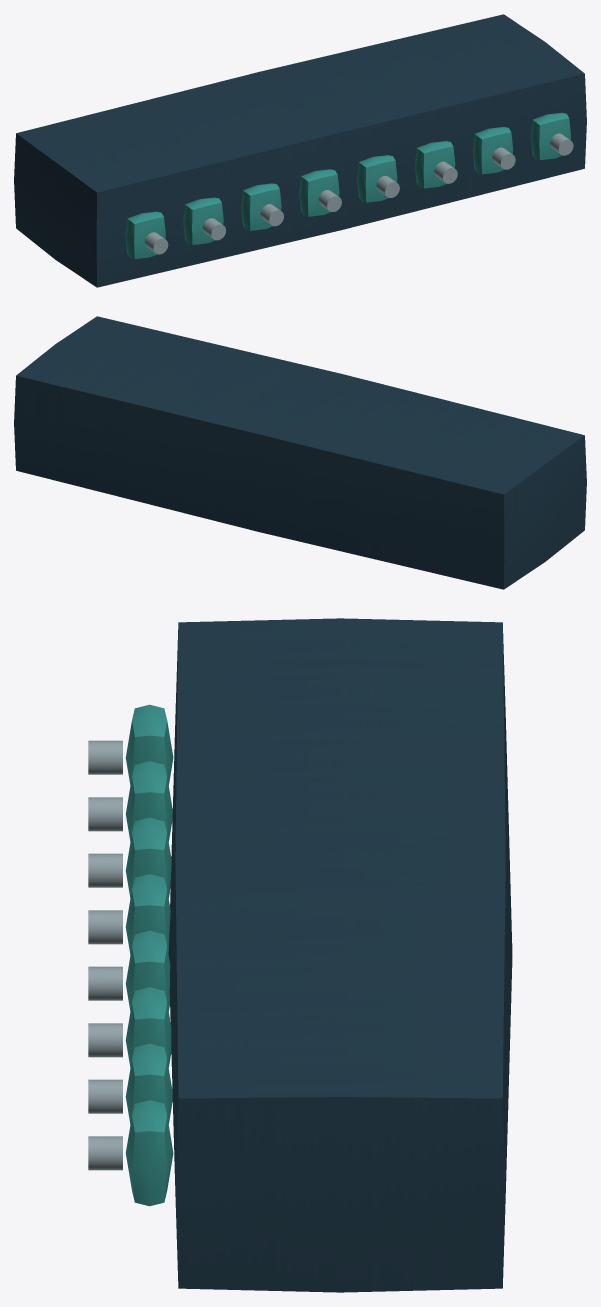
The model's file is fiber-panel.glb.
3 views of the same model, one above another, from view 1: azimuth 30°, elevation 25°; view 2: azimuth 150°, elevation 25°; view 3: azimuth 270°, elevation 25° (orthographic). The views are drawn at different scales.
Visible parts, largest first — view 1: fiber-panel; view 2: fiber-panel; view 3: fiber-panel.
Part boxes in pixels (x1,y1,x2,y2): fiber-panel: (14, 14, 586, 287); fiber-panel: (14, 316, 586, 589); fiber-panel: (88, 618, 512, 1292).
Bounding box in the file's own units: 0.6 × 0.12 × 0.222.
Materials: 17 (17 with a texture image).
